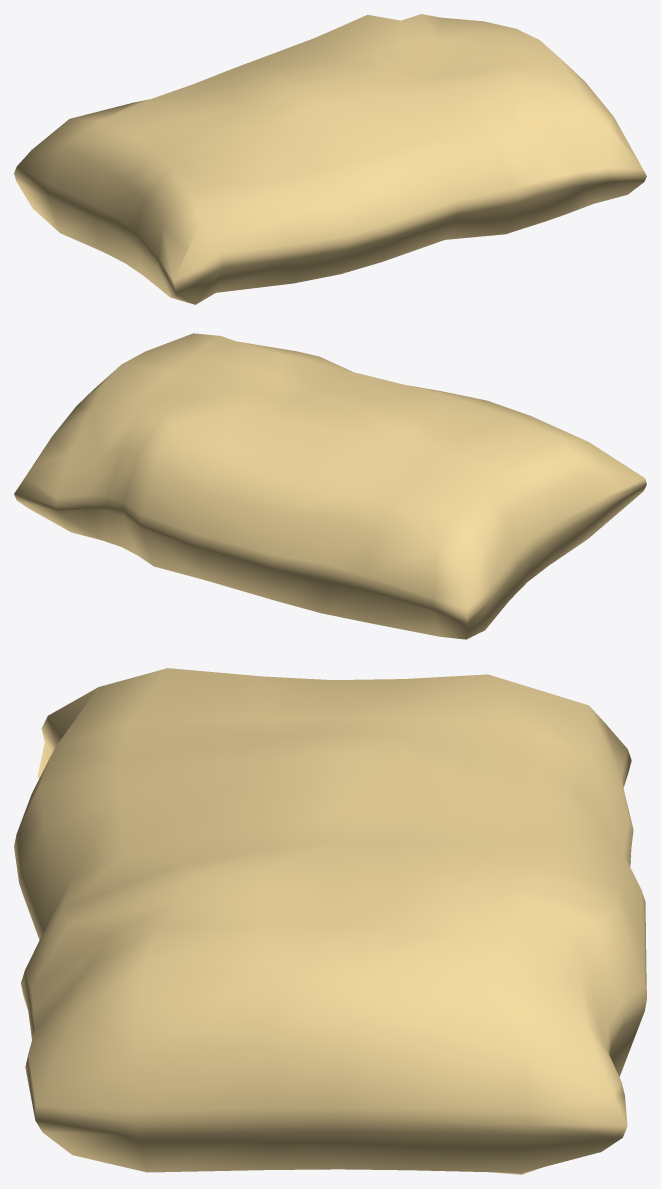
File: FrozenVeg.fbx
The picture shows the model from 3 angles, top to bottom: view 1: azimuth 30°, elevation 25°; view 2: azimuth 150°, elevation 25°; view 3: azimuth 270°, elevation 25°; orthographic projection. The views are drawn at different scales.
Parts seen in each view (by area): view 1: FrozenVeg; view 2: FrozenVeg; view 3: FrozenVeg.
Part boxes in pixels (x1,y1,x2,y2): FrozenVeg: (14,14,646,304); FrozenVeg: (14,333,646,639); FrozenVeg: (14,668,646,1174).
Bounding box in the file's own units: 507 × 150 × 336.
